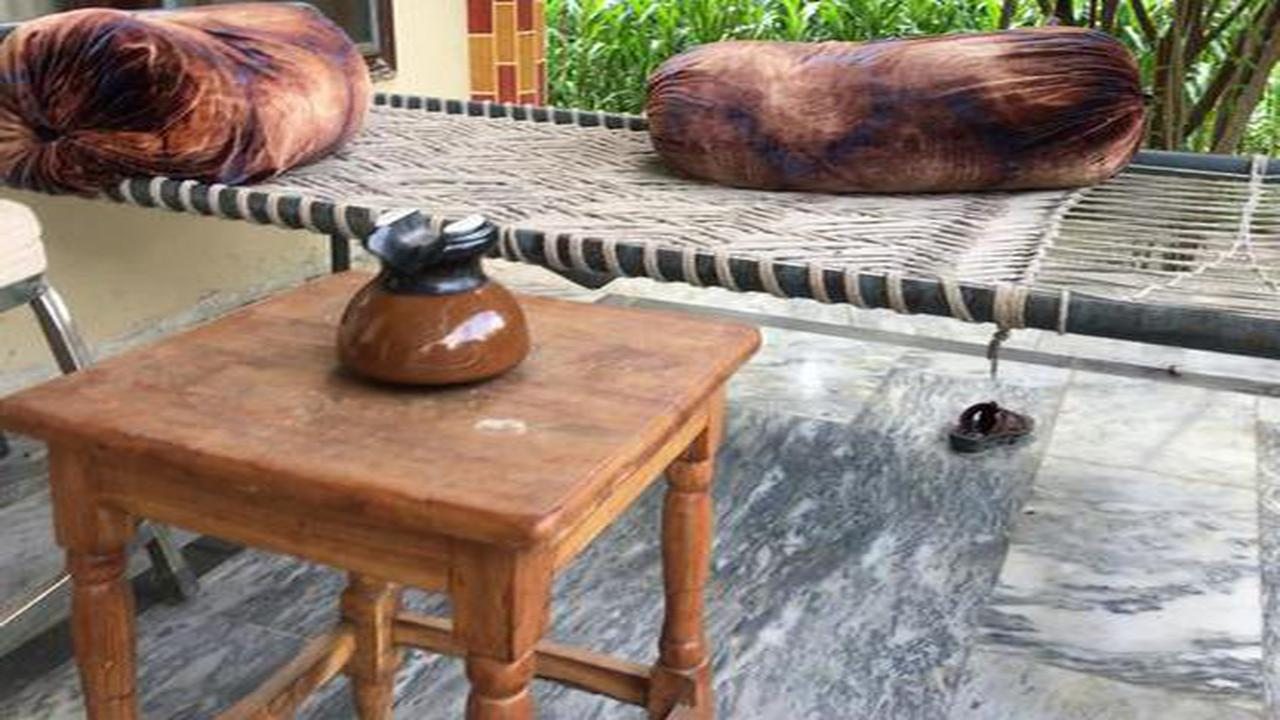insulator_pin: (314, 197, 539, 393)
